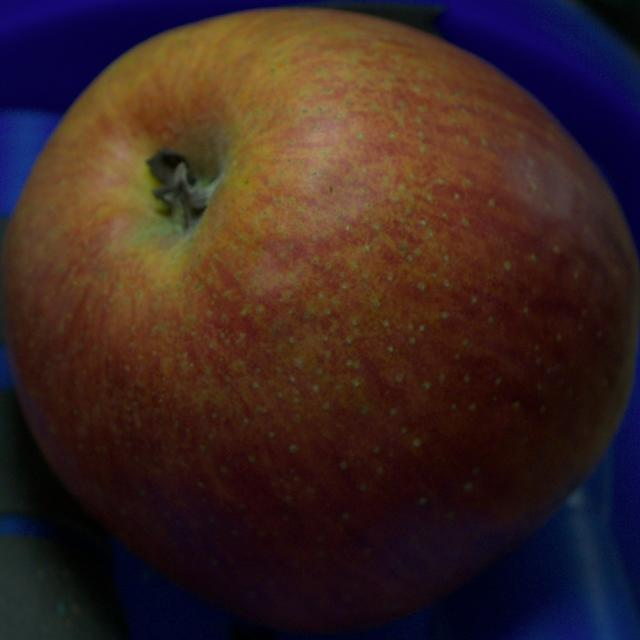apple: (2, 9, 639, 632)
bruise: (510, 151, 579, 224)
